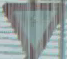Give way: (2, 2, 59, 52)
